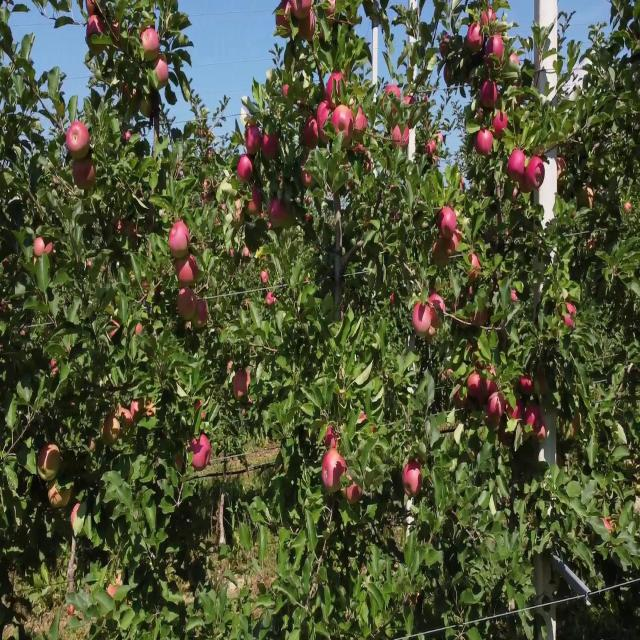apple: (168, 220, 192, 258), (68, 120, 92, 158), (324, 455, 347, 491), (40, 447, 63, 482), (428, 291, 448, 329), (404, 462, 424, 498), (140, 28, 160, 64), (192, 433, 212, 469), (72, 163, 96, 192), (528, 156, 547, 192), (508, 149, 528, 183), (332, 106, 352, 139), (104, 412, 123, 446), (528, 412, 548, 443), (300, 7, 317, 43), (328, 71, 347, 103), (192, 440, 212, 469), (488, 391, 504, 427), (116, 220, 140, 244), (180, 255, 199, 284), (412, 305, 430, 334), (476, 127, 494, 156), (88, 14, 107, 41), (484, 78, 500, 110), (440, 206, 457, 236), (352, 106, 368, 137), (384, 85, 401, 114), (304, 120, 319, 151), (248, 184, 263, 215), (240, 156, 256, 185), (236, 369, 252, 398), (448, 227, 464, 256), (276, 7, 293, 34), (392, 127, 412, 149), (180, 291, 195, 320), (348, 476, 363, 505), (432, 241, 448, 268), (272, 199, 288, 226), (156, 56, 169, 89), (468, 28, 484, 53), (264, 135, 280, 160), (116, 220, 136, 240), (468, 255, 482, 283), (488, 35, 504, 59), (300, 163, 314, 190), (472, 305, 489, 327), (508, 398, 524, 421), (248, 127, 261, 155), (468, 376, 483, 400), (580, 184, 595, 208), (296, 0, 313, 21), (492, 113, 508, 135), (324, 426, 340, 448), (484, 369, 497, 396), (48, 483, 61, 510), (320, 99, 334, 124), (196, 298, 208, 327), (520, 376, 535, 398), (232, 199, 244, 226), (456, 391, 472, 411), (480, 7, 496, 27), (140, 99, 154, 121), (500, 426, 514, 448), (120, 405, 133, 428), (112, 21, 122, 50), (444, 63, 456, 87), (196, 398, 208, 421), (572, 412, 583, 437), (124, 85, 139, 103), (564, 305, 576, 327), (108, 319, 120, 341), (132, 398, 144, 420), (72, 504, 81, 532), (324, 1, 337, 20), (440, 35, 451, 57), (321, 124, 332, 146), (36, 234, 44, 260), (536, 426, 548, 443), (540, 369, 548, 393), (520, 177, 531, 194), (144, 405, 156, 420), (44, 241, 56, 256), (364, 419, 376, 434), (440, 369, 452, 384), (604, 519, 616, 533), (404, 94, 416, 108), (476, 106, 485, 123), (268, 291, 277, 306), (176, 455, 185, 469), (52, 362, 60, 377), (512, 291, 520, 306), (88, 440, 96, 453), (284, 85, 289, 100), (136, 327, 144, 336), (264, 270, 269, 284), (228, 362, 234, 373)
